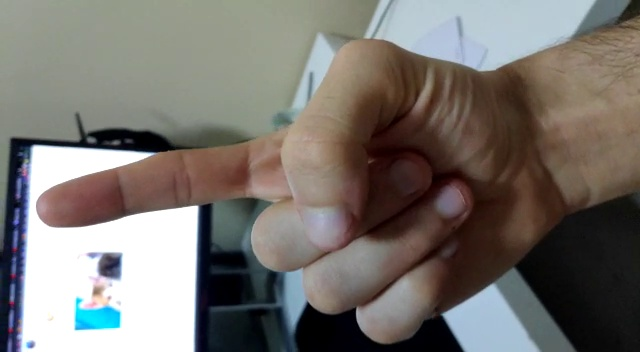One: (15, 12, 592, 349)
